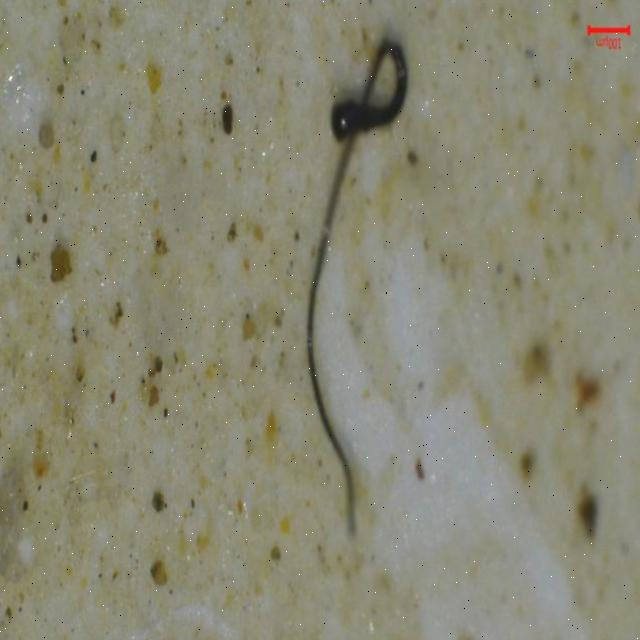Fibre: (298, 41, 414, 542)
